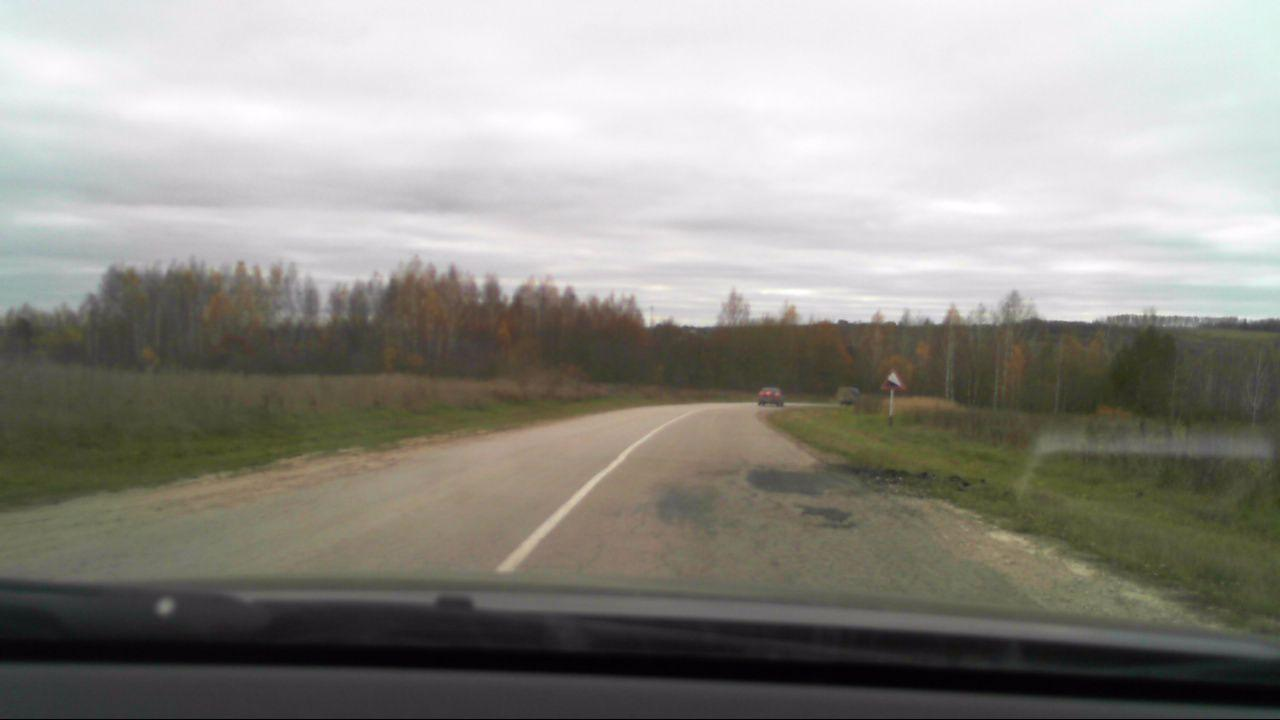1_13: (881, 369, 902, 391)
